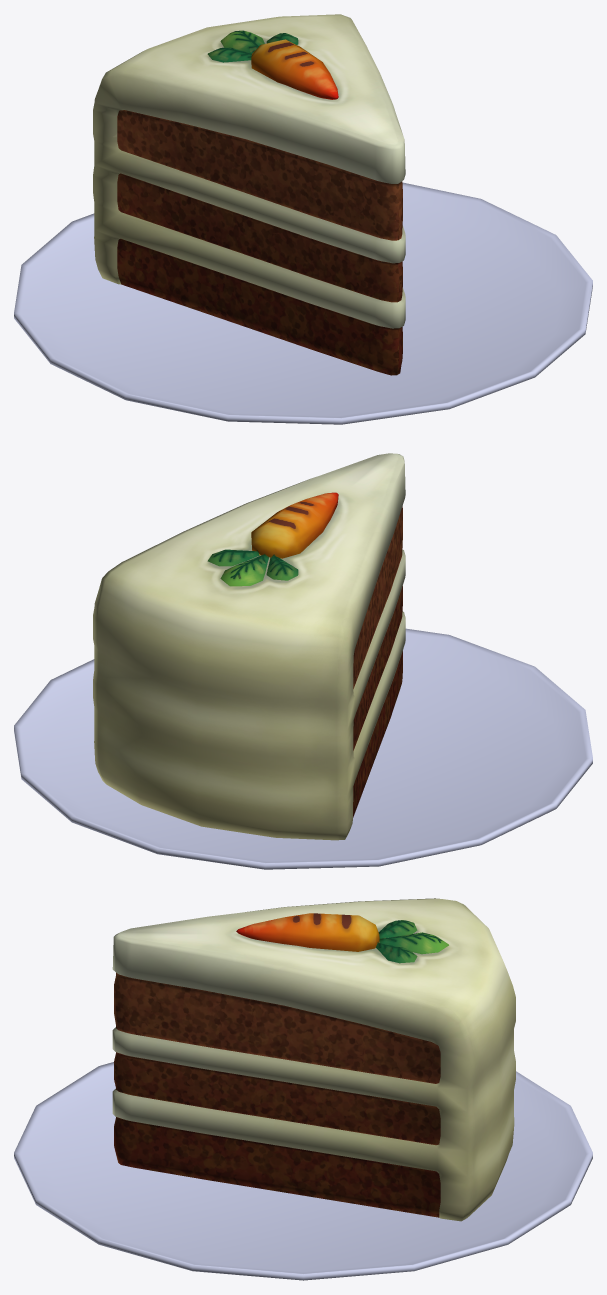
The picture shows the model from 3 angles, top to bottom: view 1: azimuth 30°, elevation 25°; view 2: azimuth 150°, elevation 25°; view 3: azimuth 270°, elevation 25°; orthographic projection.
Parts seen in each view (by area): view 1: Slice, Plate, Carrot; view 2: Slice, Plate, Carrot; view 3: Slice, Plate, Carrot.
Boxes of the visible parts, x1=… form: Slice: x1=93, y1=14, x2=405, y2=375; Plate: x1=14, y1=182, x2=592, y2=424; Carrot: x1=207, y1=30, x2=338, y2=99; Slice: x1=93, y1=453, x2=405, y2=840; Plate: x1=14, y1=628, x2=592, y2=869; Carrot: x1=207, y1=492, x2=338, y2=586; Slice: x1=112, y1=898, x2=515, y2=1221; Plate: x1=14, y1=1062, x2=592, y2=1280; Carrot: x1=236, y1=913, x2=448, y2=963.
Bounding box in the file's own units: 219 × 105 × 219.
4 materials, 4 textured.
